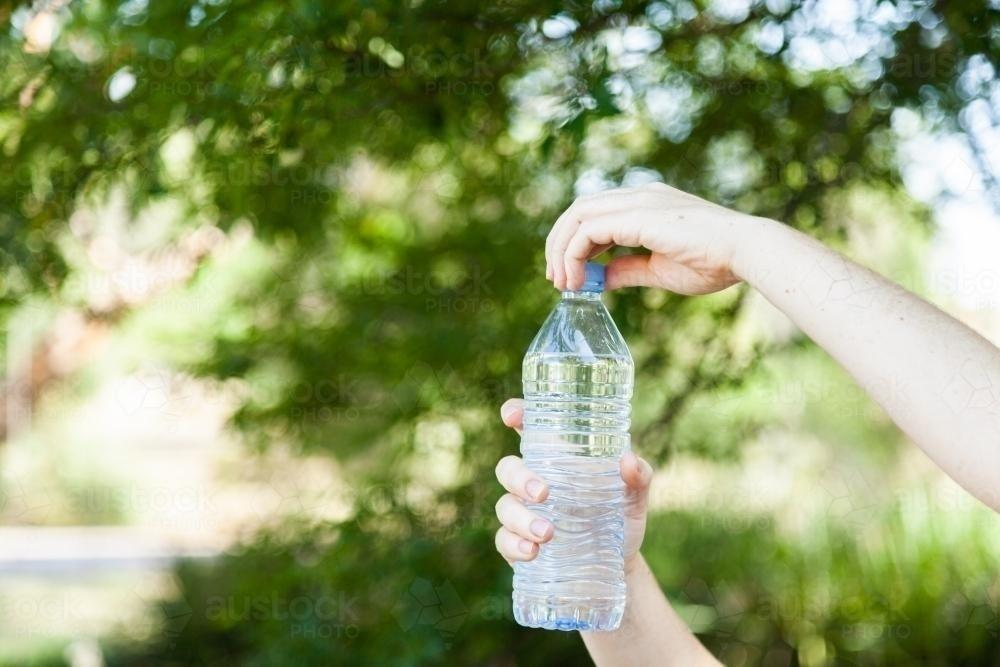bottle-plastic: (508, 256, 638, 633)
